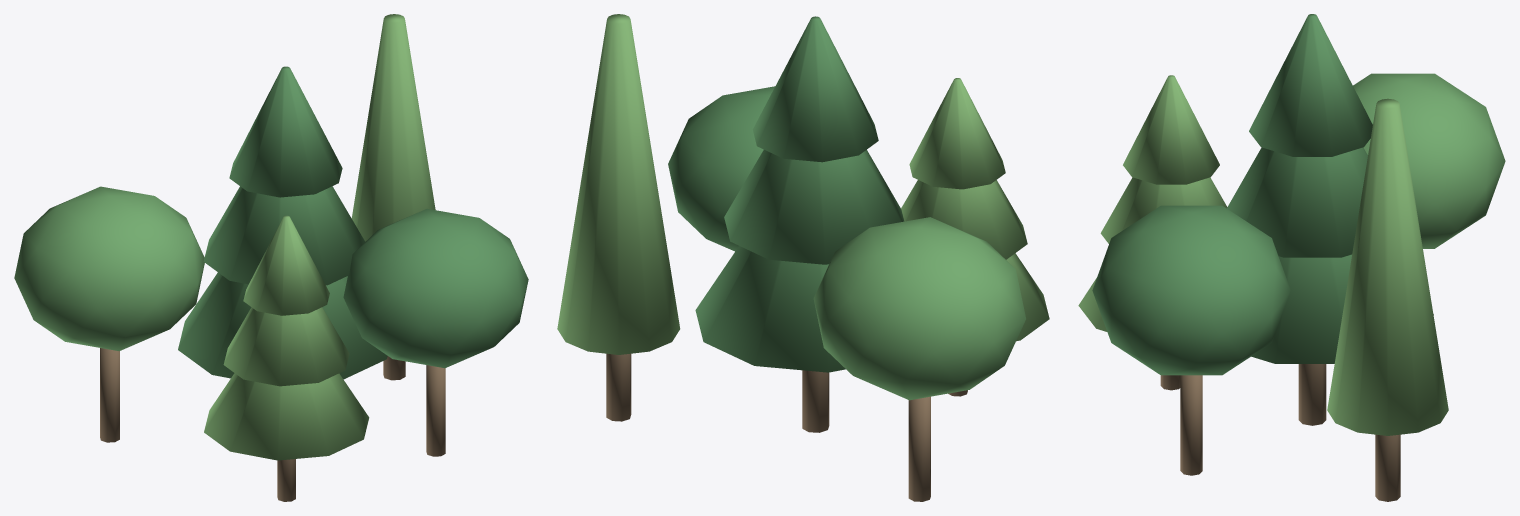
File: tree_cluster.glb
3 renders of one model, left to right at view 1: azimuth 30°, elevation 25°; view 2: azimuth 150°, elevation 25°; view 3: azimuth 270°, elevation 25°, orthographic. The views are drawn at different scales.
Parts seen in each view (by area): view 1: Icosphere, Icosphere.001, Cyp_2, Pine1_3, Pine2_0, Pine3_0, Pine2_3, Pine1_0, Pine3_3, Trunk_1, Trunk_4, Trunk_3; view 2: Icosphere, Cyp_2, Pine2_0, Pine1_0, Pine3_0, Icosphere.001, Pine3_3, Pine2_3, Trunk_1, Trunk_2, Trunk_0, Pine1_3; view 3: Icosphere.001, Cyp_2, Icosphere, Pine2_0, Pine3_0, Pine1_0, Pine3_3, Pine2_3, Trunk_4, Trunk_0, Trunk_2, Pine1_3.
Boxes of the visible parts, x1=… form: Icosphere: x1=14, y1=186, x2=204, y2=351; Icosphere.001: x1=343, y1=208, x2=528, y2=368; Cyp_2: x1=351, y1=14, x2=435, y2=241; Pine1_3: x1=204, y1=373, x2=369, y2=460; Pine2_0: x1=203, y1=186, x2=364, y2=285; Pine3_0: x1=229, y1=66, x2=342, y2=197; Pine2_3: x1=223, y1=307, x2=349, y2=386; Pine1_0: x1=178, y1=272, x2=387, y2=379; Pine3_3: x1=243, y1=215, x2=329, y2=315; Trunk_1: x1=100, y1=348, x2=119, y2=442; Trunk_4: x1=426, y1=365, x2=445, y2=456; Trunk_3: x1=277, y1=459, x2=295, y2=501; Icosphere: x1=813, y1=217, x2=1025, y2=400; Cyp_2: x1=557, y1=14, x2=680, y2=354; Pine2_0: x1=724, y1=150, x2=904, y2=264; Pine1_0: x1=695, y1=246, x2=845, y2=372; Pine3_0: x1=752, y1=16, x2=878, y2=162; Icosphere.001: x1=668, y1=86, x2=774, y2=251; Pine3_3: x1=909, y1=78, x2=1005, y2=189; Pine2_3: x1=901, y1=180, x2=1027, y2=259; Trunk_1: x1=908, y1=396, x2=930, y2=501; Trunk_2: x1=606, y1=353, x2=631, y2=421; Trunk_0: x1=802, y1=370, x2=829, y2=432; Pine1_3: x1=1006, y1=253, x2=1049, y2=341; Icosphere.001: x1=1092, y1=205, x2=1290, y2=375; Cyp_2: x1=1327, y1=98, x2=1448, y2=435; Icosphere: x1=1353, y1=73, x2=1505, y2=248; Pine2_0: x1=1227, y1=147, x2=1367, y2=257; Pine3_0: x1=1249, y1=14, x2=1372, y2=156; Pine1_0: x1=1251, y1=254, x2=1433, y2=363; Pine3_3: x1=1123, y1=75, x2=1219, y2=184; Pine2_3: x1=1100, y1=177, x2=1227, y2=243; Trunk_4: x1=1180, y1=375, x2=1202, y2=475; Trunk_0: x1=1298, y1=364, x2=1326, y2=425; Trunk_2: x1=1375, y1=434, x2=1400, y2=501; Pine1_3: x1=1078, y1=278, x2=1106, y2=331.
Bounding box in the file's own units: 10.26 × 8.86 × 8.48.
